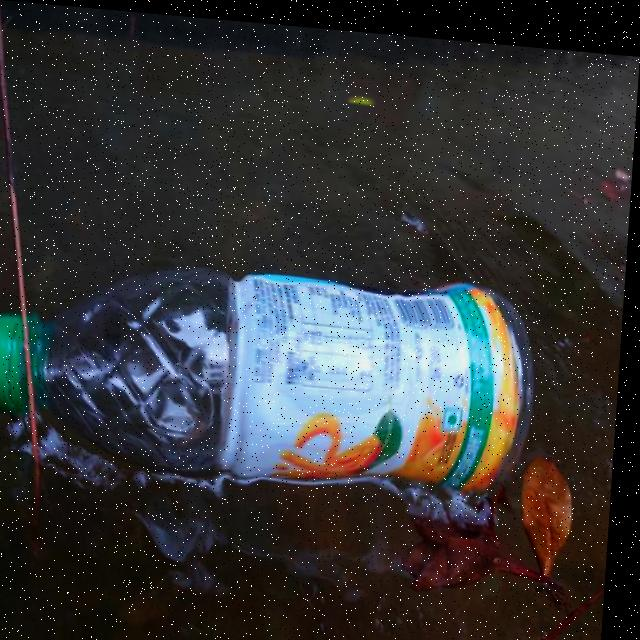leaf: (511, 430, 619, 640), (402, 468, 514, 590), (213, 630, 332, 640)
waterbottle: (0, 240, 535, 479)
